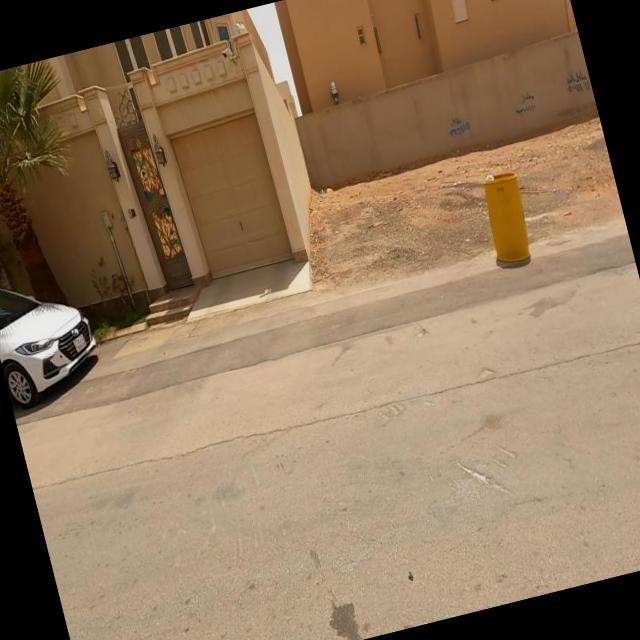debris: (408, 85, 500, 167), (482, 58, 569, 144), (540, 51, 597, 118), (298, 158, 348, 216), (468, 147, 502, 194)
